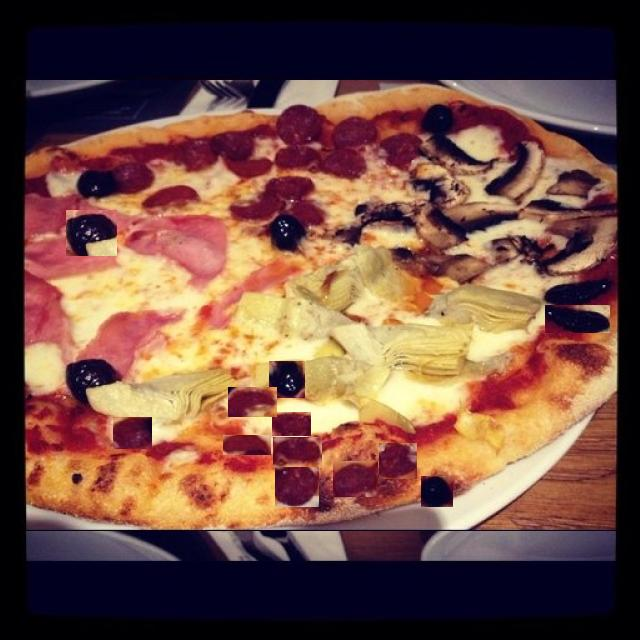olive: (65, 209, 116, 255), (542, 304, 608, 332), (73, 408, 116, 443), (268, 360, 304, 397), (420, 475, 452, 506)
pepperoni: (274, 465, 318, 506), (140, 398, 197, 427), (332, 460, 377, 496), (272, 436, 321, 466), (227, 386, 276, 416), (378, 442, 416, 478), (210, 450, 256, 478), (112, 416, 151, 448), (320, 434, 364, 462), (179, 440, 215, 473), (222, 434, 270, 454), (282, 386, 322, 410), (271, 411, 310, 435)
pizza: (16, 79, 618, 530)
